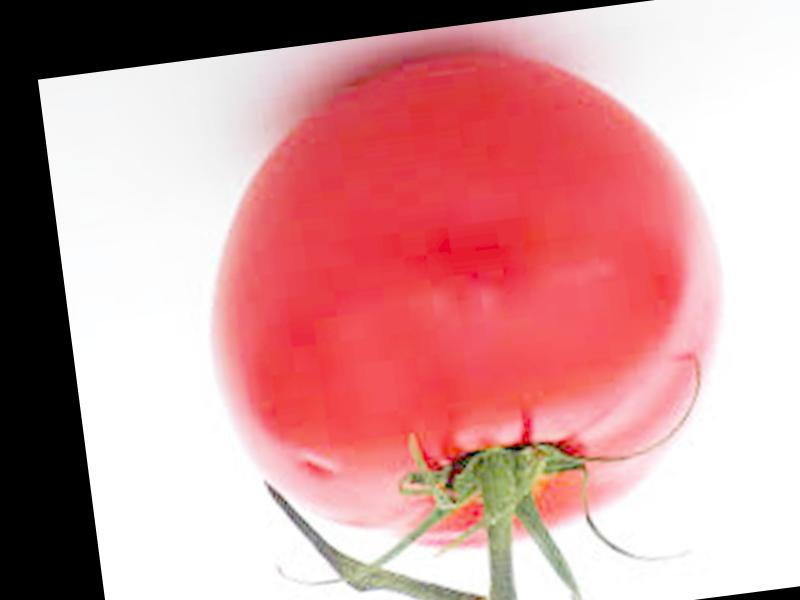Tomato: (182, 19, 756, 574)
